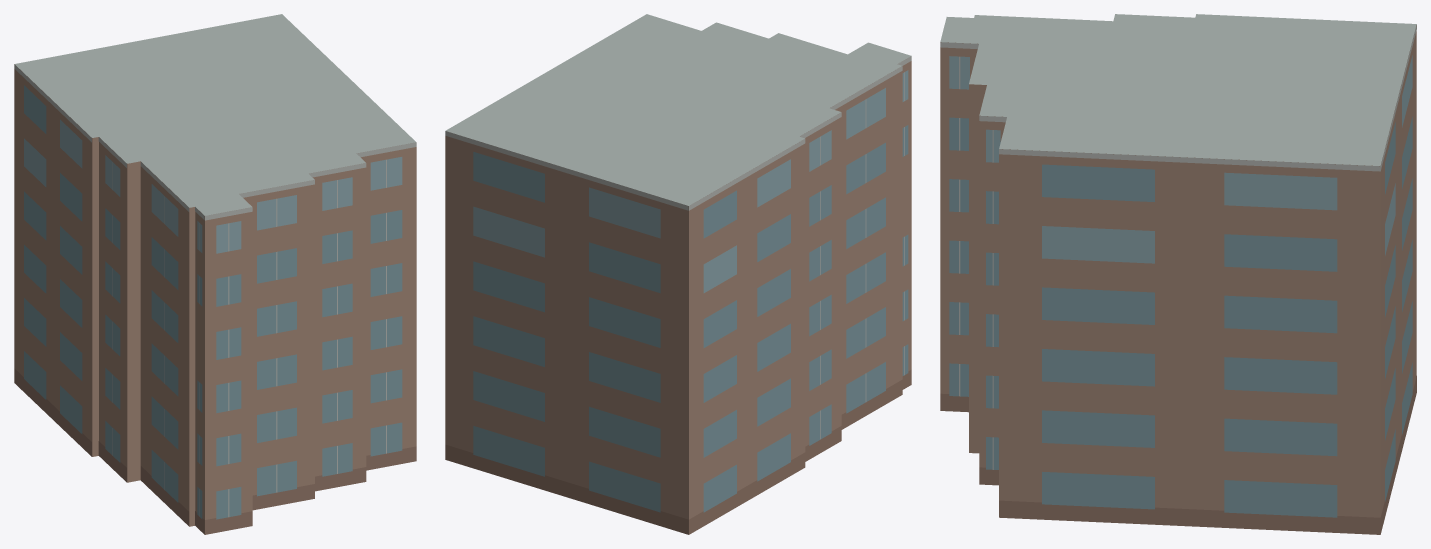
Rendered from survey-upis-32784212.glb.
3 views of the same model, side by side, from view 1: azimuth 30°, elevation 25°; view 2: azimuth 150°, elevation 25°; view 3: azimuth 270°, elevation 25° (orthographic). The views are drawn at different scales.
Parts seen in each view (by area): view 1: survey-upis-32784212.tmp; view 2: survey-upis-32784212.tmp; view 3: survey-upis-32784212.tmp.
Part boxes in pixels (box(x1,y1,x2,y2)): survey-upis-32784212.tmp: box(14, 14, 416, 534); survey-upis-32784212.tmp: box(445, 14, 911, 534); survey-upis-32784212.tmp: box(940, 14, 1416, 534).
Size of the model in its own units: 14.79 by 16.7 by 19.57.
